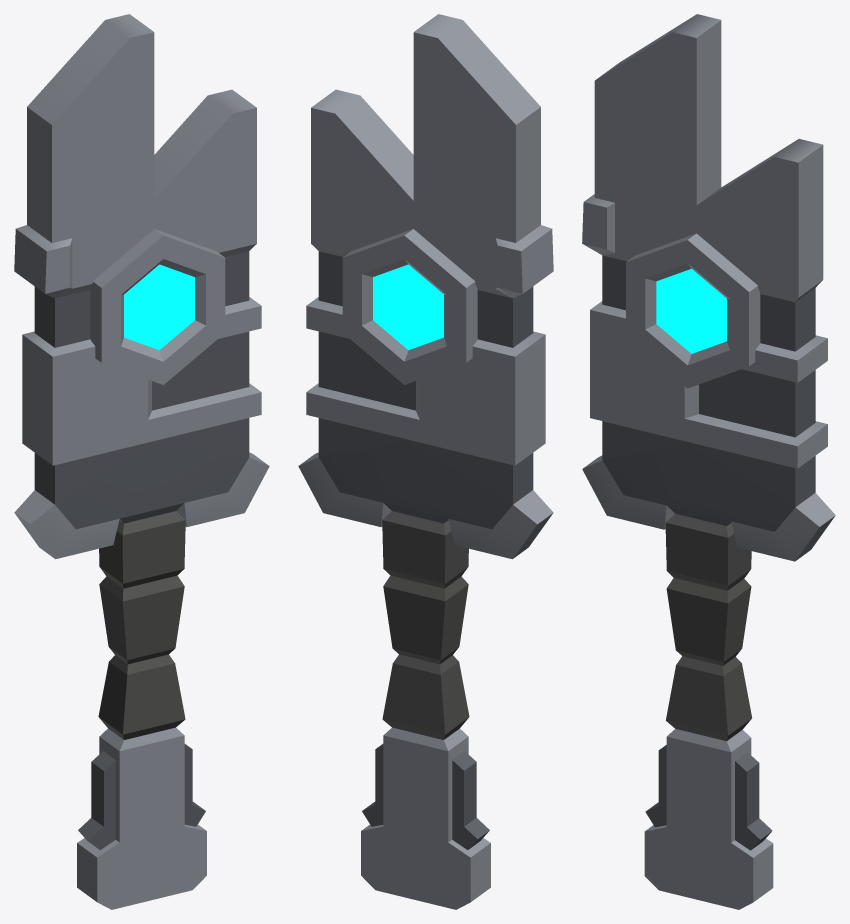
File: SM_Wep_Sword_01.fbx
The picture shows the model from 3 angles, left to right: view 1: azimuth 30°, elevation 25°; view 2: azimuth 150°, elevation 25°; view 3: azimuth 330°, elevation 25°; orthographic projection.
Visible parts, largest first — view 1: SM_Wep_Sword_01_LOD0; view 2: SM_Wep_Sword_01_LOD0; view 3: SM_Wep_Sword_01_LOD0.
Boxes of the visible parts, x1,y1,x2,y2 form: SM_Wep_Sword_01_LOD0: (14,14,269,909); SM_Wep_Sword_01_LOD0: (298,14,553,909); SM_Wep_Sword_01_LOD0: (582,14,835,909).
Size of the model in its own units: 5.44 by 17.42 by 60.53.
Materials: 1 (1 with a texture image).
